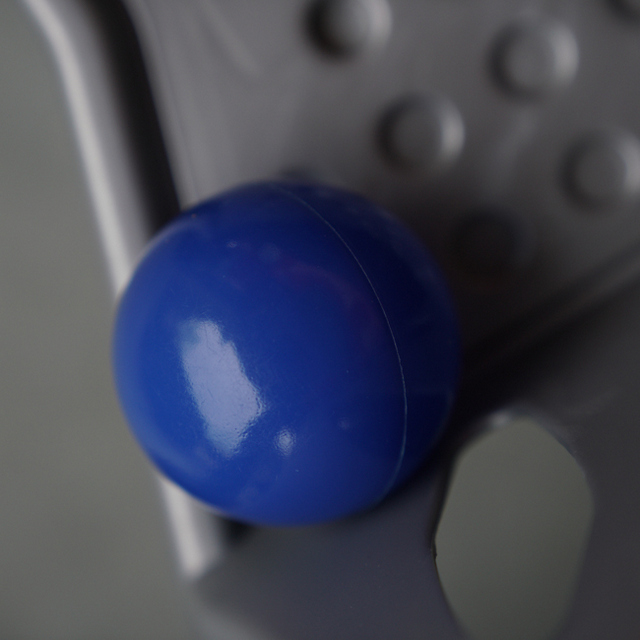Ball: (118, 180, 459, 525)
